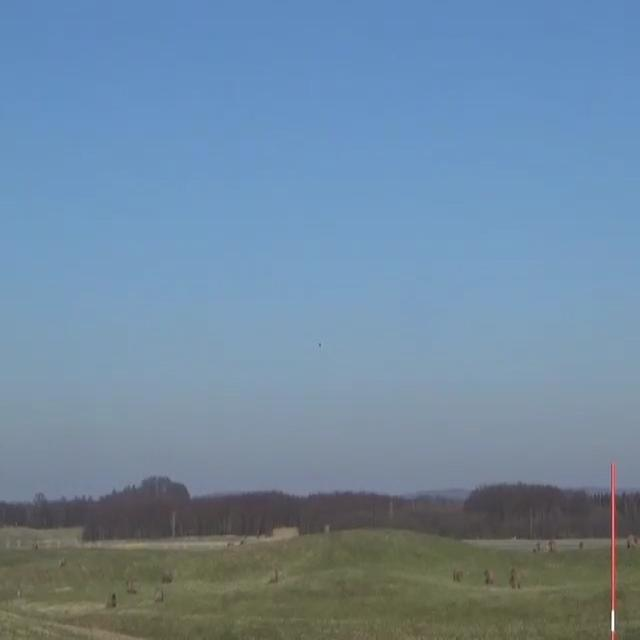bird: (317, 339, 322, 349)
